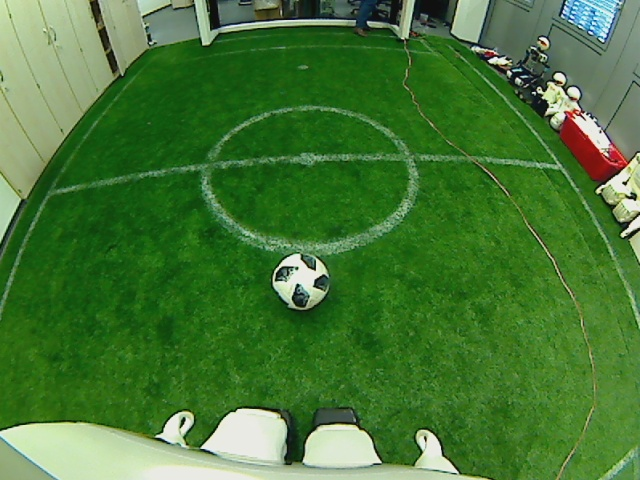ball: (270, 249, 331, 311)
